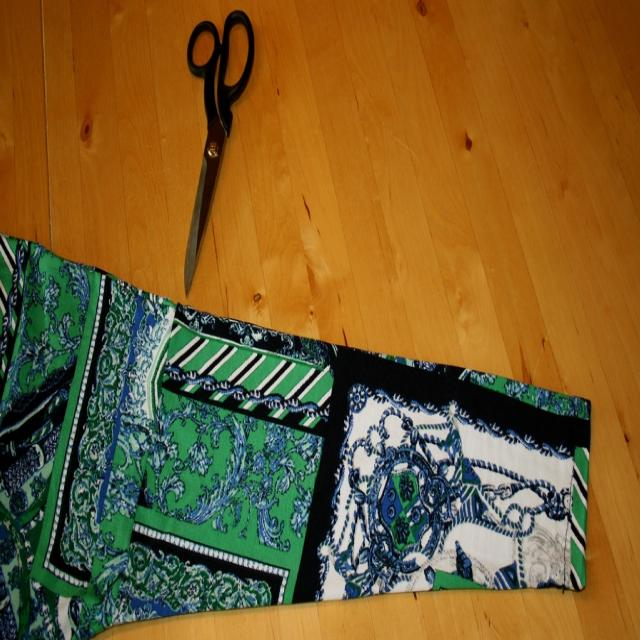scissors: (182, 8, 255, 297)
